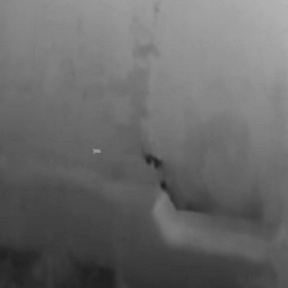Target: (92, 149, 102, 154)
